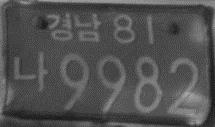1: (143, 11, 155, 45)
2: (166, 55, 200, 117)
8: (132, 52, 163, 115), (111, 10, 136, 44)
9: (58, 52, 91, 112), (96, 52, 126, 115)
경남_O: (45, 11, 101, 42)
나: (11, 49, 49, 92)
